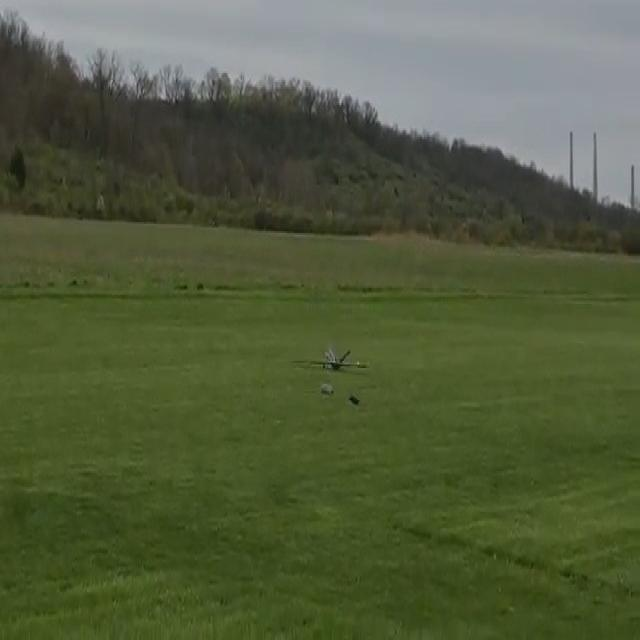iha: (294, 348, 365, 370)
